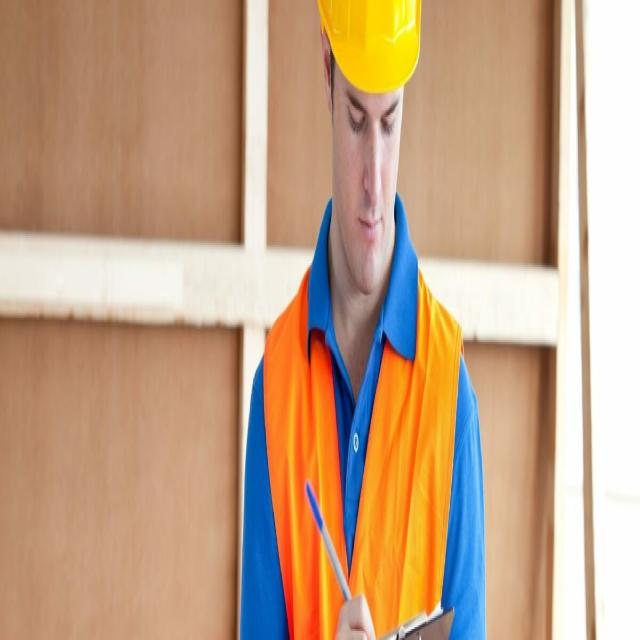helmet: (318, 0, 432, 94)
no-goggles: (323, 76, 418, 168)
vest: (246, 269, 474, 640)
